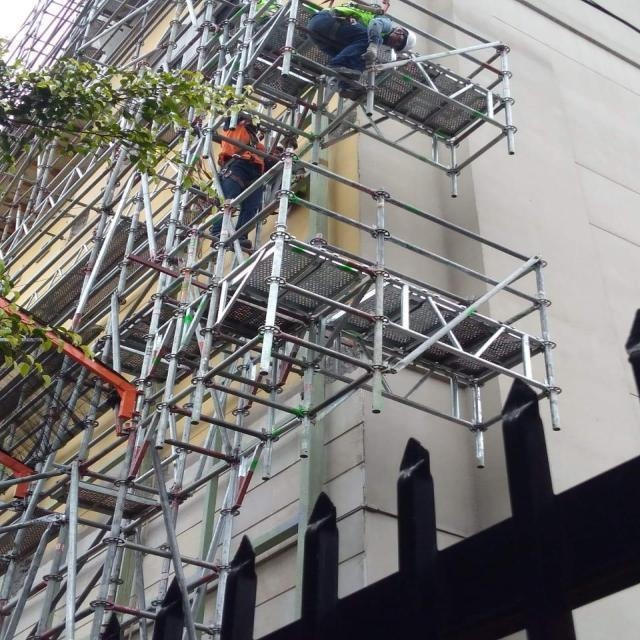Arnes_seguridad: (316, 3, 380, 53), (223, 133, 265, 192)
